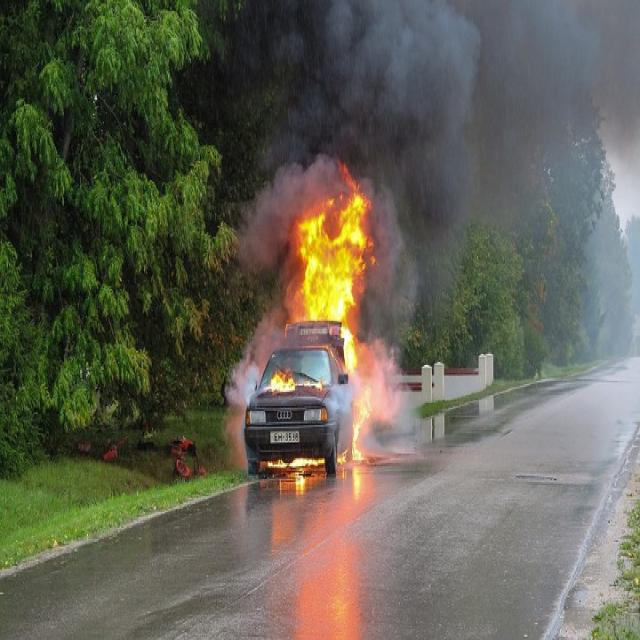fire: (332, 161, 365, 323), (295, 211, 332, 322), (351, 390, 370, 459)
